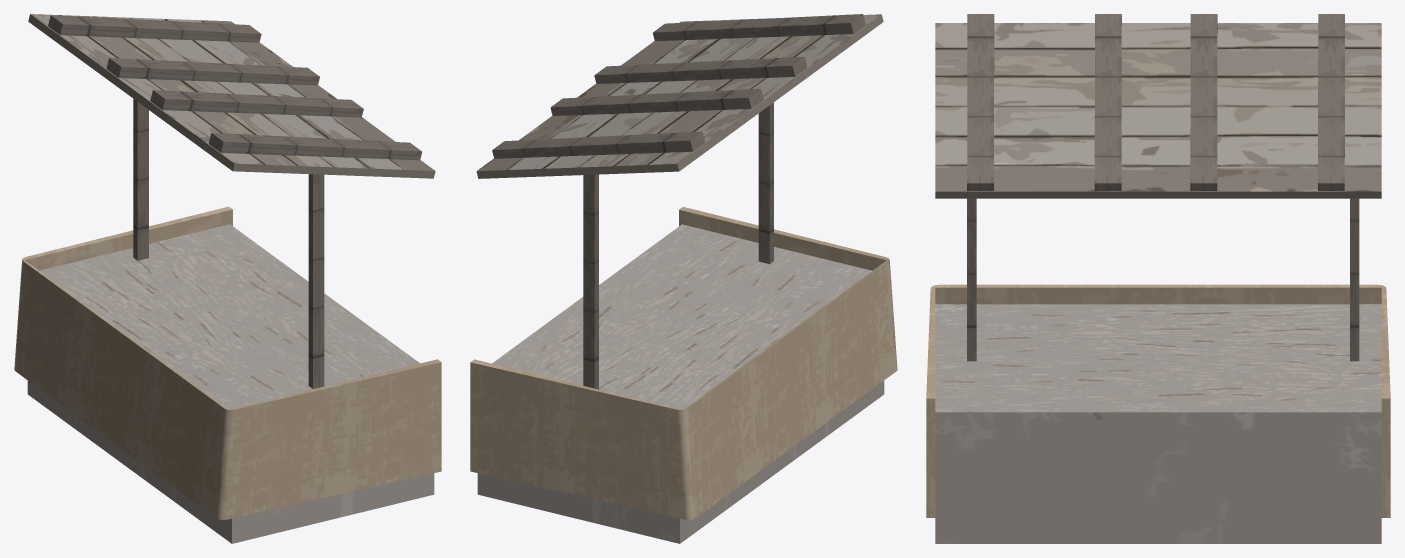
Rendered from japaneseStallBase.fbx.
The picture shows the model from 3 angles, left to right: view 1: azimuth 30°, elevation 25°; view 2: azimuth 150°, elevation 25°; view 3: azimuth 270°, elevation 25°; orthographic projection. The views are drawn at different scales.
Visible parts, largest first — view 1: baseJapaneseStall; view 2: baseJapaneseStall; view 3: baseJapaneseStall.
Part boxes in pixels (x1,y1,x2,y2): baseJapaneseStall: (14,14,441,543); baseJapaneseStall: (470,14,897,543); baseJapaneseStall: (926,14,1390,543).
Size of the model in its own units: 867 by 1472 by 1456.
